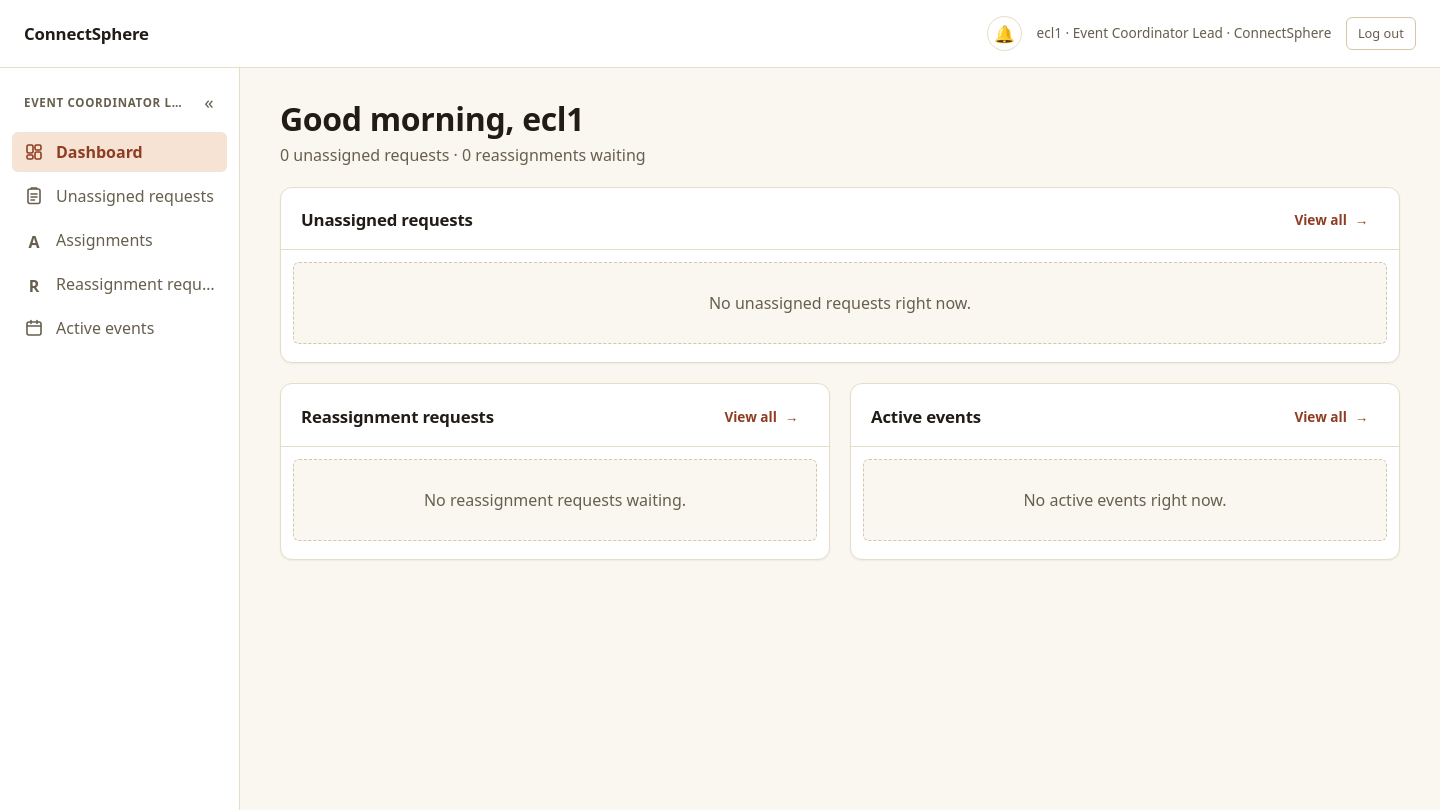
Test: App routing — role consoles › puts "Coordinator assignments" one click away on the Lead console and opens the page there
The width and height of the screenshot is (1440, 810).
Click the link "Assignments": click(88, 240) x1=24 y1=229 x2=153 y2=251
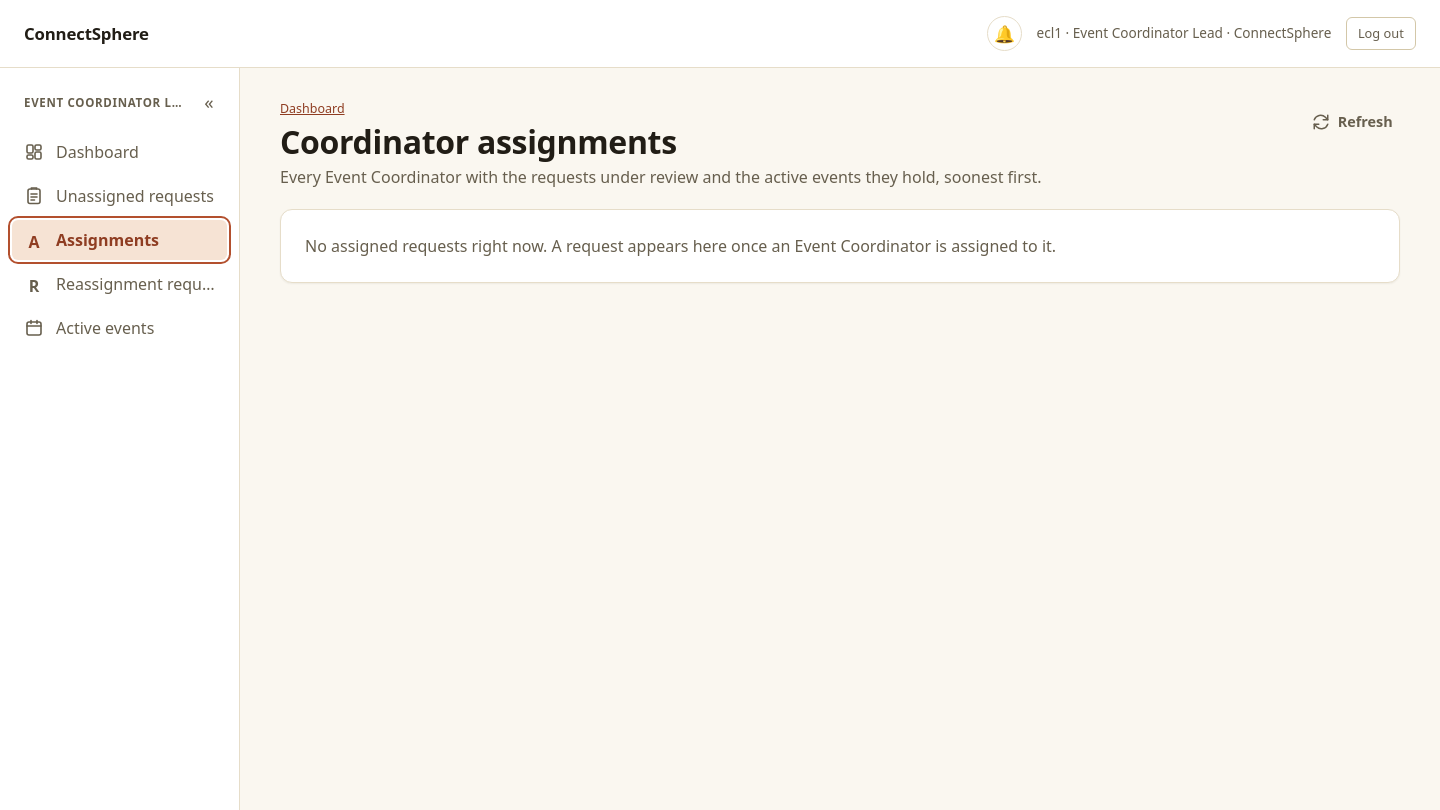
Check: the heading "Coordinator assignments" is shown, box x1=280 y1=120 x2=677 y2=163
Check: the text "No assigned requests right now." is shown, box x1=305 y1=235 x2=1056 y2=257
